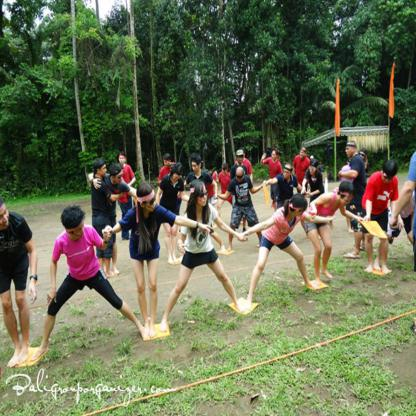face: (1, 204, 10, 231), (198, 185, 208, 208), (73, 223, 86, 239), (145, 197, 157, 212), (343, 193, 353, 207), (384, 173, 394, 184), (101, 165, 108, 177), (237, 171, 244, 183), (347, 145, 353, 158), (116, 173, 123, 184), (193, 163, 200, 174), (297, 209, 305, 217), (285, 170, 291, 180), (120, 155, 126, 164), (239, 155, 245, 164), (360, 152, 365, 161), (174, 175, 180, 182), (311, 167, 316, 175), (273, 152, 277, 161), (301, 151, 305, 159), (165, 161, 170, 167), (223, 169, 228, 175)
